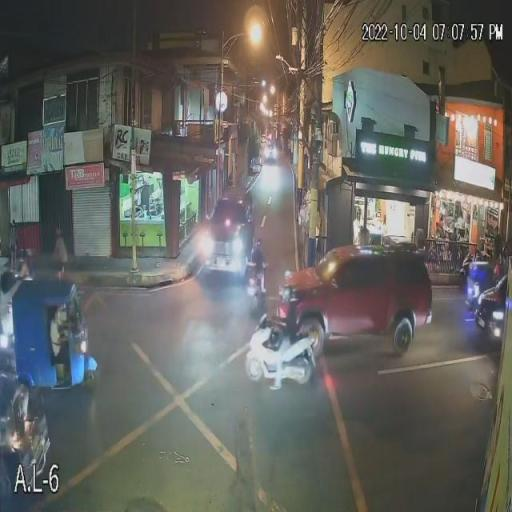helmet: (275, 283, 297, 307), (254, 236, 264, 249)
motorcycle: (247, 324, 323, 388), (248, 272, 266, 314)
rider: (272, 310, 290, 400), (252, 248, 268, 294)
